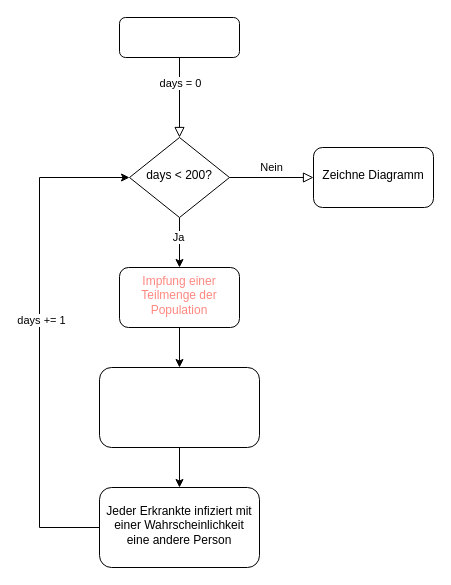
This 451x585 diagram has some shape labels left out. Each missing label, with the box of its shape:
Initialisierung der Population: (118, 16, 240, 58)
Änderung Status der Population, falls erkrankt, genesen oder gestorben: (98, 366, 260, 448)
